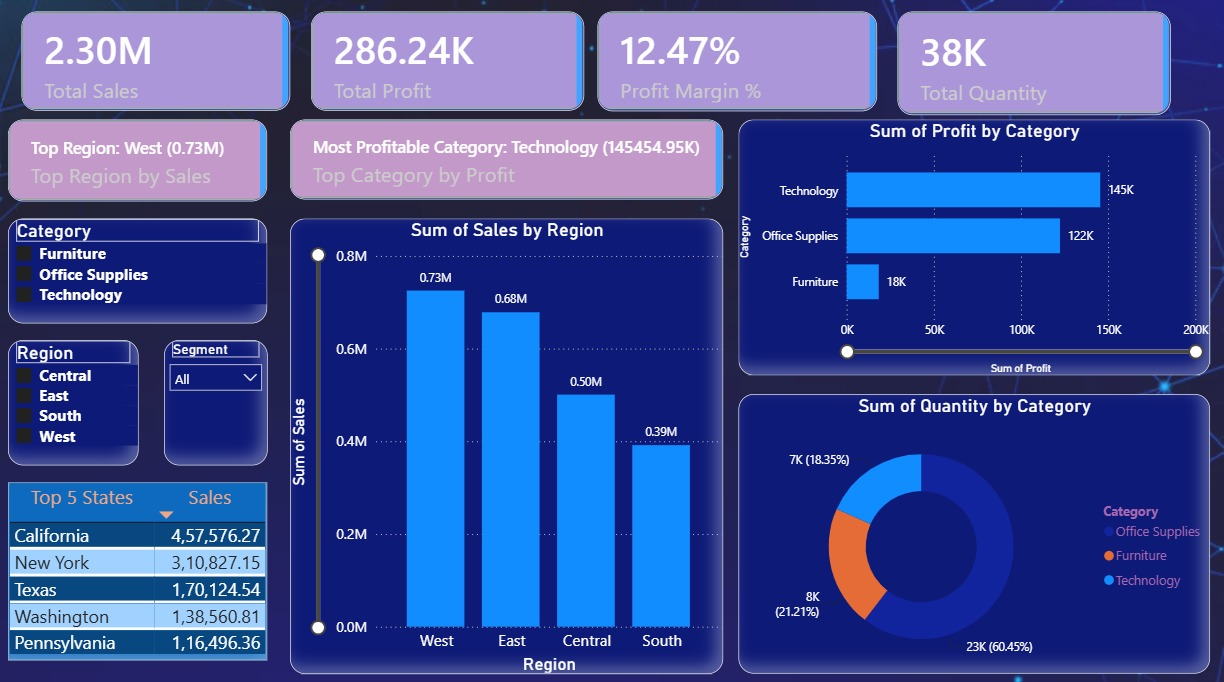

What the dashboard file says about the page in this screenshot:
{"tool":"powerbi","page":{"name":"Dashboared","canvas":[1280,720],"ordinal":0},"visuals":[{"type":"cardVisual","fields":{"Data":["Sales_Data.Total Sales"]},"box":[26.6,17.2,279.8,103.2],"z":0},{"type":"cardVisual","fields":{"Data":["Sales_Data.Total Profit"]},"box":[328.2,17.2,284.5,103.2],"z":1000},{"type":"cardVisual","fields":{"Data":["Sales_Data.Profit Margin %"]},"box":[627.4,17,291,103.9],"z":2000},{"type":"cardVisual","fields":{"Data":["Sales_Data.Total Quantity"]},"box":[939.4,17.2,284.5,107.8],"z":3000},{"type":"slicer","fields":{"Values":["Sales_Data.Region"]},"box":[13.2,359.1,136.1,130.4],"z":4000},{"type":"slicer","fields":{"Values":["Sales_Data.Category"]},"box":[13.2,232.4,270.2,109.6],"z":5000},{"type":"slicer","fields":{"Values":["Sales_Data.Segment"]},"box":[175.7,359.1,107.7,130.4],"z":6000},{"type":"columnChart","fields":{"Category":["Sales_Data.Region"],"Y":["Sum(Sales_Data.Sales)"]},"box":[306.1,232.4,451.7,474.3],"z":7000},{"type":"clusteredBarChart","fields":{"Category":["Sales_Data.Category"],"Y":["Sum(Sales_Data.Profit)"]},"box":[772.9,130.4,491.3,266.5],"z":8000},{"type":"donutChart","fields":{"Category":["Sales_Data.Category"],"Y":["Sum(Sales_Data.Quantity)"]},"box":[772.9,415.8,491.3,291],"z":9000},{"type":"tableEx","fields":{"Values":["Sales_Data.State","Sum(Sales_Data.Sales)"]},"box":[13.2,508.4,270.2,185.2],"z":10000},{"type":"cardVisual","fields":{"Data":["Sales_Data.Top Category by Profit"]},"box":[306.1,130.4,451.7,83.2],"z":10002},{"type":"cardVisual","fields":{"Data":["Sales_Data.Top Region by Sales"]},"box":[13.2,130.4,270.2,85],"z":10003}]}

Visuals, with their boxes in screenshot pixels (x1, y1, x2, y2), scaled from the page's 1280x720 canvas onto the 1224x682 screenshot:
cardVisual - Sales_Data.Total Sales: <region>25, 16, 293, 114</region>
cardVisual - Sales_Data.Total Profit: <region>314, 16, 586, 114</region>
cardVisual - Sales_Data.Profit Margin %: <region>600, 16, 878, 115</region>
cardVisual - Sales_Data.Total Quantity: <region>898, 16, 1170, 118</region>
slicer - Sales_Data.Region: <region>13, 340, 143, 464</region>
slicer - Sales_Data.Category: <region>13, 220, 271, 324</region>
slicer - Sales_Data.Segment: <region>168, 340, 271, 464</region>
columnChart - Sales_Data.Region x Sum(Sales_Data.Sales): <region>293, 220, 725, 669</region>
clusteredBarChart - Sales_Data.Category x Sum(Sales_Data.Profit): <region>739, 124, 1209, 376</region>
donutChart - Sales_Data.Category x Sum(Sales_Data.Quantity): <region>739, 394, 1209, 669</region>
tableEx - Sales_Data.State x Sum(Sales_Data.Sales): <region>13, 482, 271, 657</region>
cardVisual - Sales_Data.Top Category by Profit: <region>293, 124, 725, 202</region>
cardVisual - Sales_Data.Top Region by Sales: <region>13, 124, 271, 204</region>
